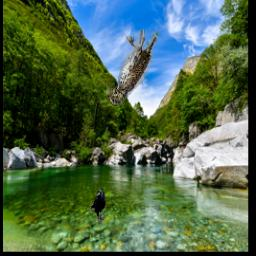Crow: (88, 188, 106, 225)
Sparrow: (107, 30, 160, 106)
